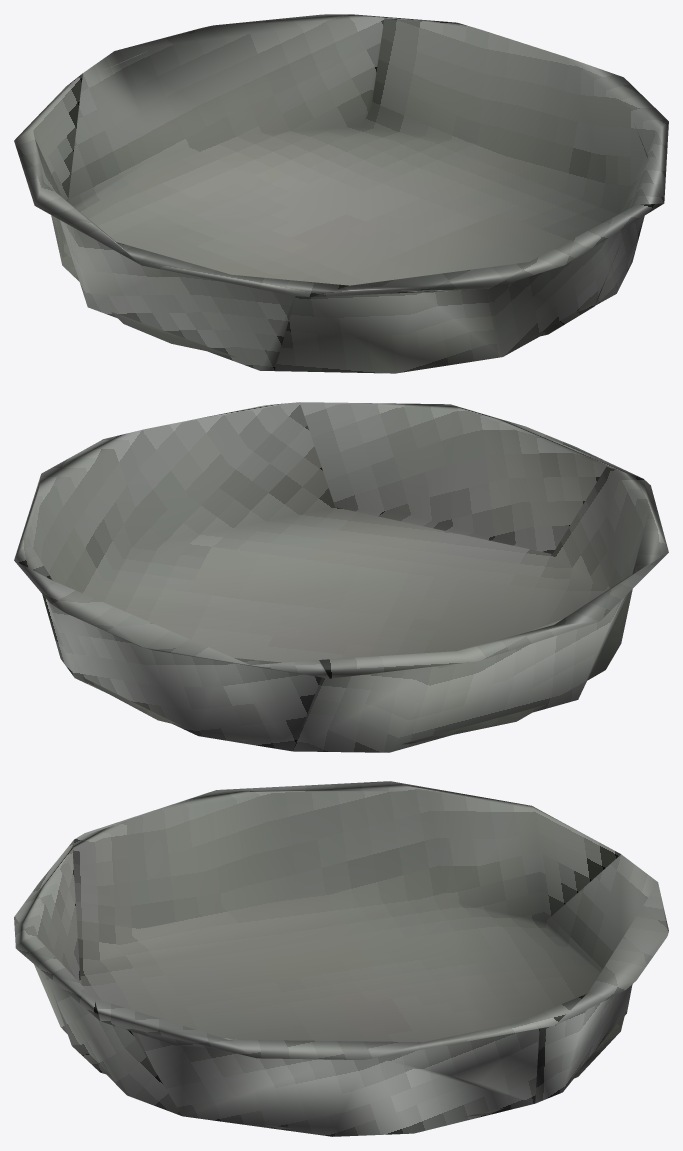
The model's file is Chef_Style_Round_Cake_Pan_9_inch_pan-low.glb.
3 renders of one model, top to bottom at view 1: azimuth 30°, elevation 25°; view 2: azimuth 150°, elevation 25°; view 3: azimuth 270°, elevation 25°, orthographic.
Parts seen in each view (by area): view 1: Chef_Style_Round_Cake_Pan_9_inch_pan; view 2: Chef_Style_Round_Cake_Pan_9_inch_pan; view 3: Chef_Style_Round_Cake_Pan_9_inch_pan.
Boxes of the visible parts, box(x1,y1,x2,y2) form: Chef_Style_Round_Cake_Pan_9_inch_pan: box(14, 14, 668, 373); Chef_Style_Round_Cake_Pan_9_inch_pan: box(14, 402, 668, 752); Chef_Style_Round_Cake_Pan_9_inch_pan: box(14, 781, 668, 1136).
Size of the model in its own units: 0.2446 by 0.0445 by 0.2444.
1 material, 1 textured.
